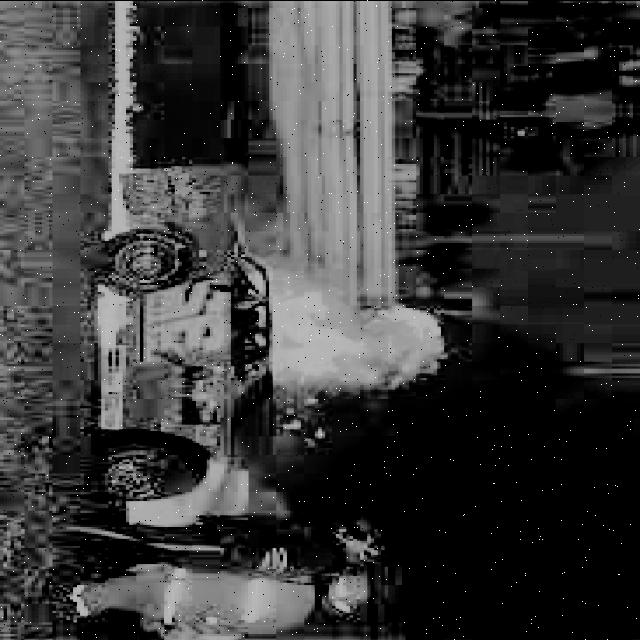api: (236, 234, 456, 413)
